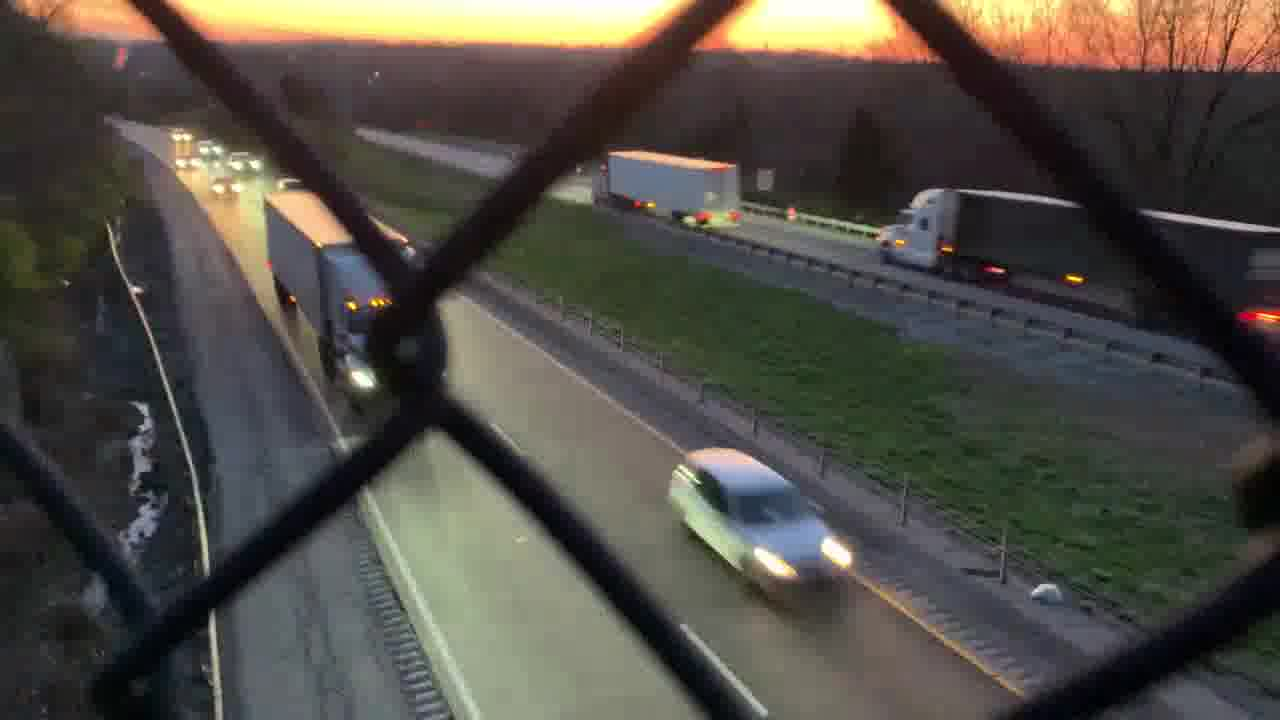heavyTruck: (876, 187, 1280, 327), (262, 182, 432, 410), (581, 147, 756, 228)
largeCar: (667, 440, 864, 600)
